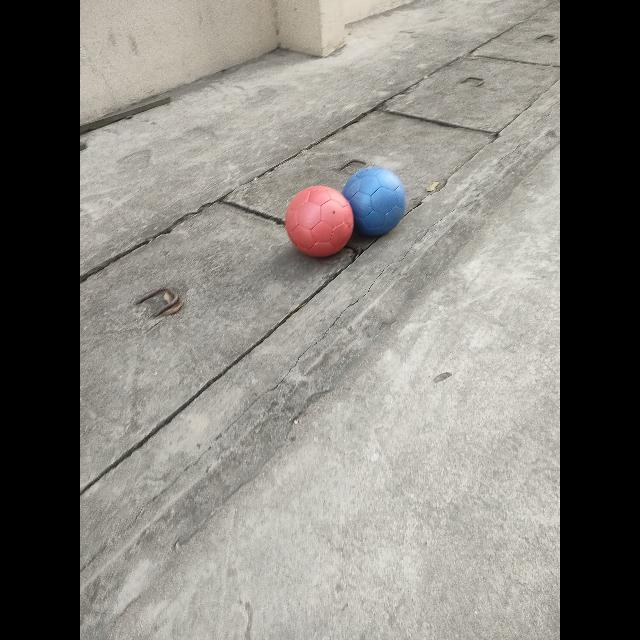B: (342, 167, 406, 236)
R: (284, 186, 354, 256)
